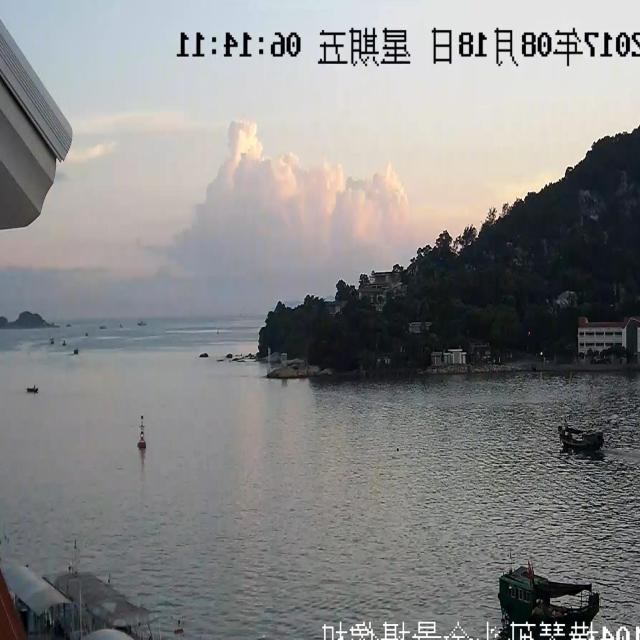buoy: (126, 413, 150, 475)
fishing boat: (482, 535, 621, 640), (531, 412, 602, 478), (9, 382, 40, 436)
